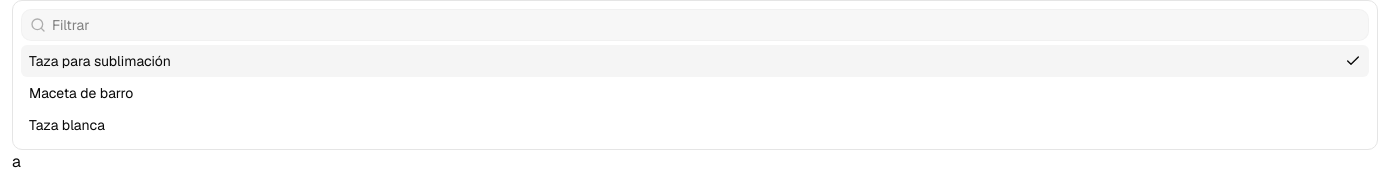
Test case: SelectionList › en modo simple marcar otra fila reemplaza la anterior
Click the option "Maceta de barro" at (81, 93), box [29,84,133,102]
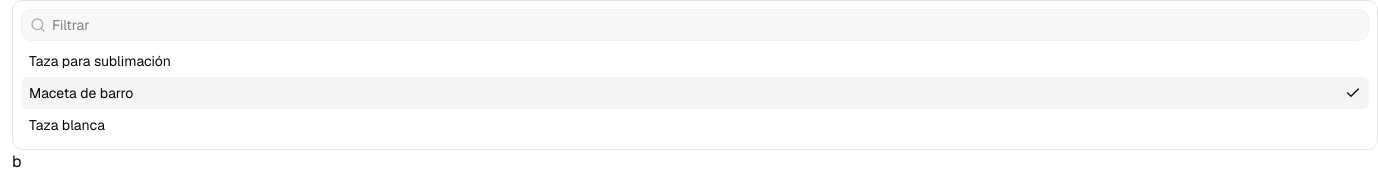
Result: the text with test id "selected" reads "b" at [12,151,22,172]
